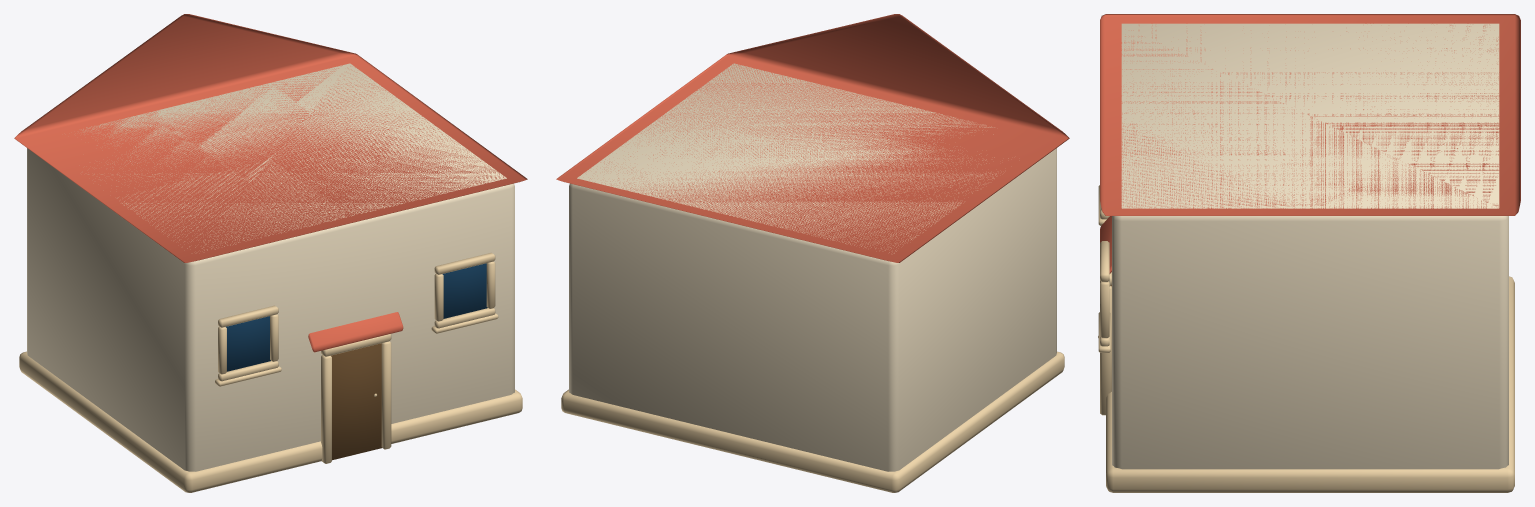
Rendered from house-a.glb.
The picture shows the model from 3 angles, left to right: view 1: azimuth 30°, elevation 25°; view 2: azimuth 150°, elevation 25°; view 3: azimuth 270°, elevation 25°; orthographic projection. The views are drawn at different scales.
Parts seen in each view (by area): view 1: house-a; view 2: house-a; view 3: house-a.
Boxes of the visible parts, x1,y1,x2,y2 form: house-a: (14, 14, 527, 492); house-a: (556, 14, 1069, 492); house-a: (1098, 14, 1520, 492).
Bounding box in the file's own units: 7.93 × 6.98 × 7.03.
